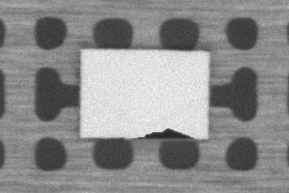DIE_BROKEN: (132, 126, 195, 140)
